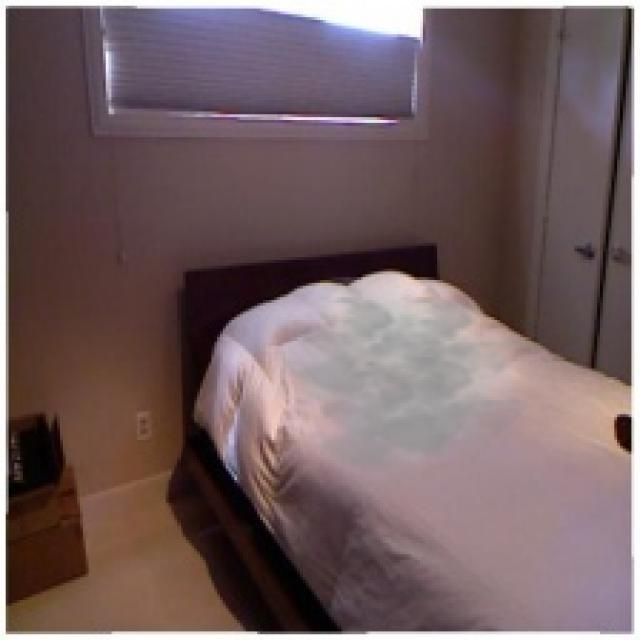Smoke: (283, 277, 532, 486)
